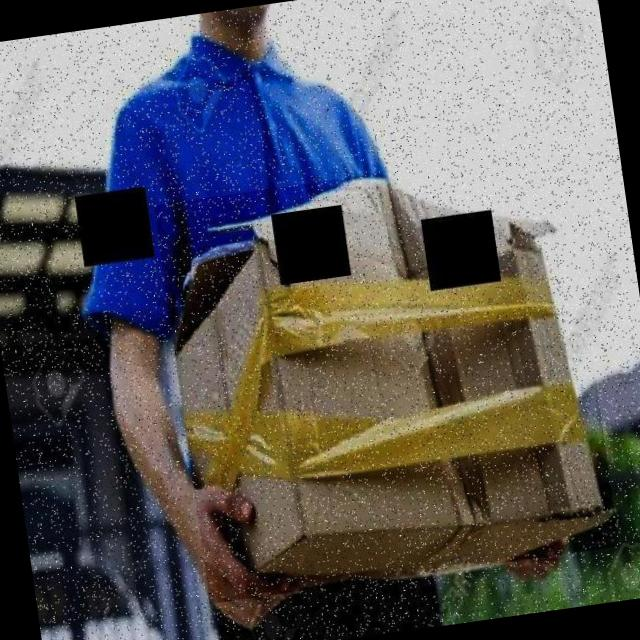box: (154, 147, 620, 604)
